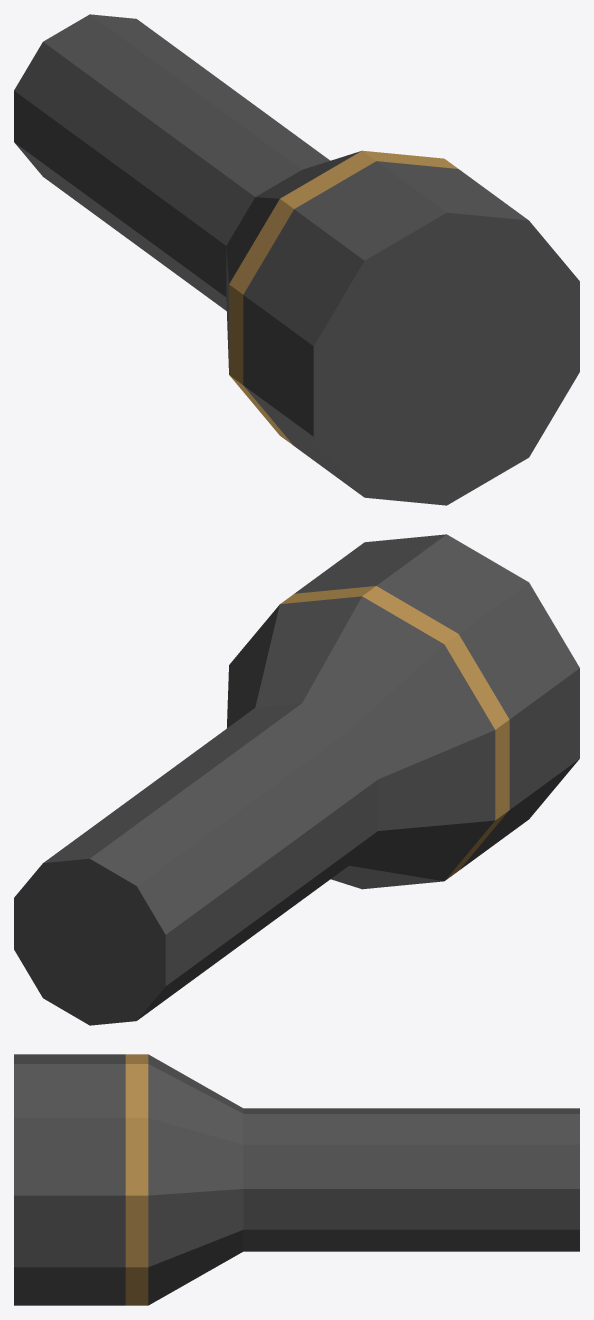
The model's file is 손전등.fbx.
The picture shows the model from 3 angles, top to bottom: view 1: azimuth 30°, elevation 25°; view 2: azimuth 150°, elevation 25°; view 3: azimuth 270°, elevation 25°; orthographic projection. The views are drawn at different scales.
Parts seen in each view (by area): view 1: 실린더; view 2: 실린더; view 3: 실린더.
Part boxes in pixels (x1,y1,x2,y2): 실린더: [14, 14, 579, 505]; 실린더: [14, 534, 579, 1025]; 실린더: [14, 1054, 579, 1305].
Size of the model in its own units: 334 by 351 by 775.
